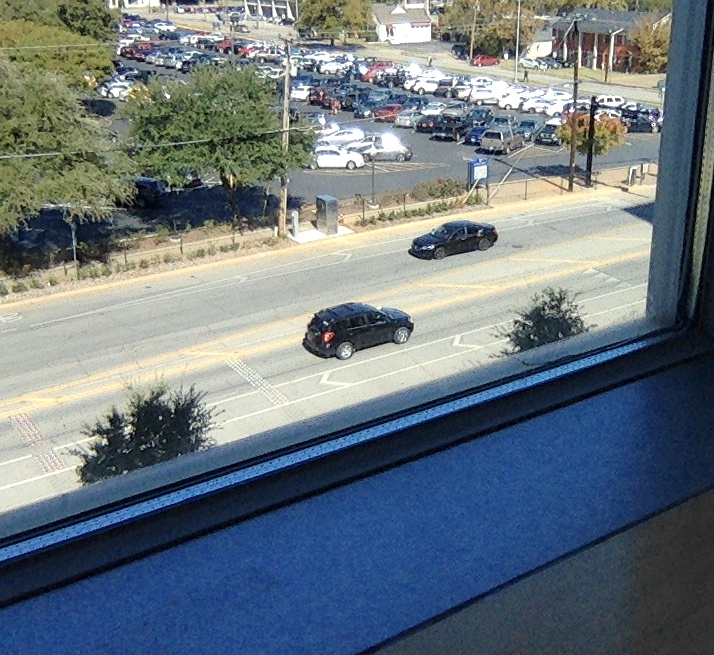car: (300, 300, 414, 361)
